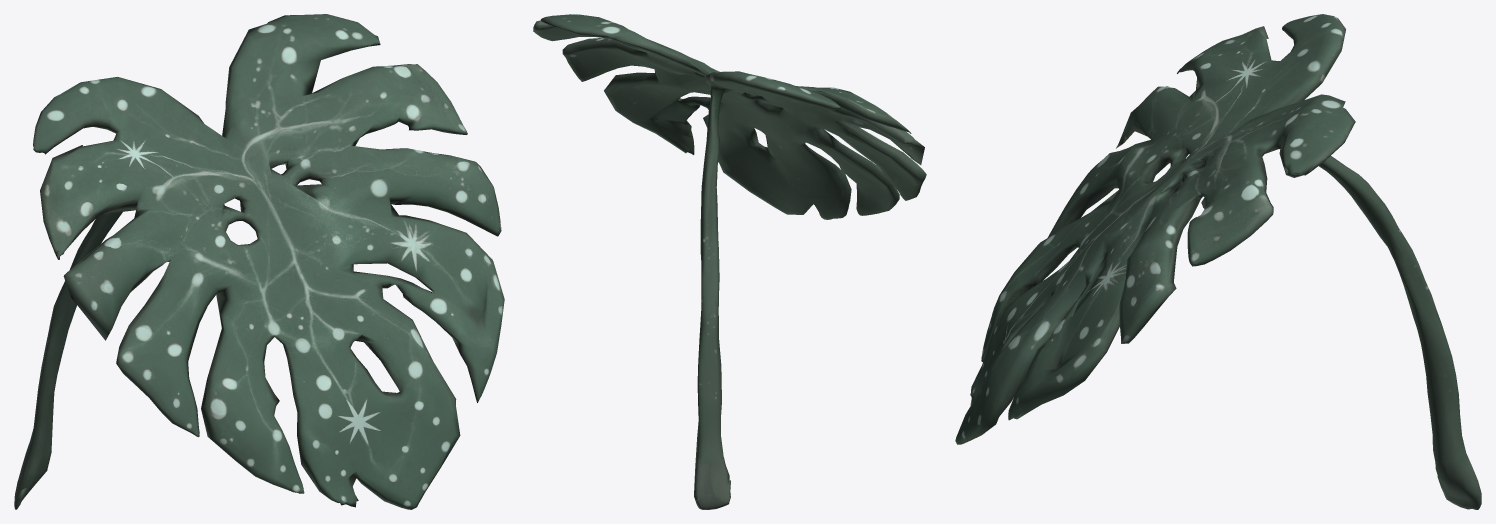
Rendered from mon_galaxy_darkteal_v2.glb.
3 renders of one model, left to right at view 1: azimuth 30°, elevation 25°; view 2: azimuth 150°, elevation 25°; view 3: azimuth 270°, elevation 25°, orthographic. The views are drawn at different scales.
Parts seen in each view (by area): view 1: world; view 2: world; view 3: world.
Part boxes in pixels (x1,y1,x2,y2): world: [14, 14, 504, 509]; world: [533, 14, 926, 509]; world: [955, 14, 1481, 509].
Bounding box in the file's own units: 1.86 × 2 × 1.91.
1 material, 1 textured.
